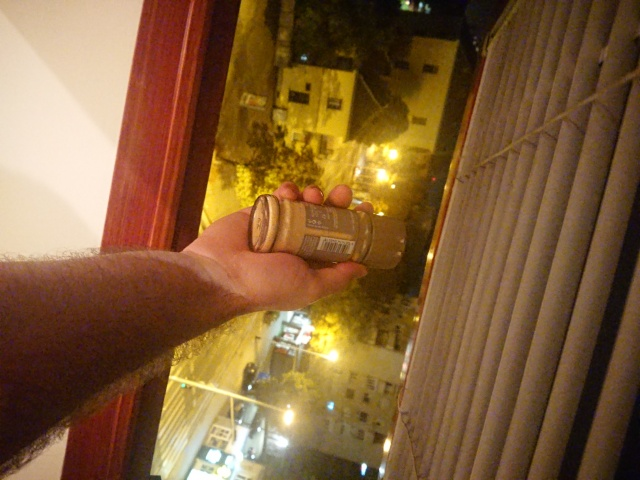Kotanyi Garlic Granules 70g: (246, 192, 408, 272)
